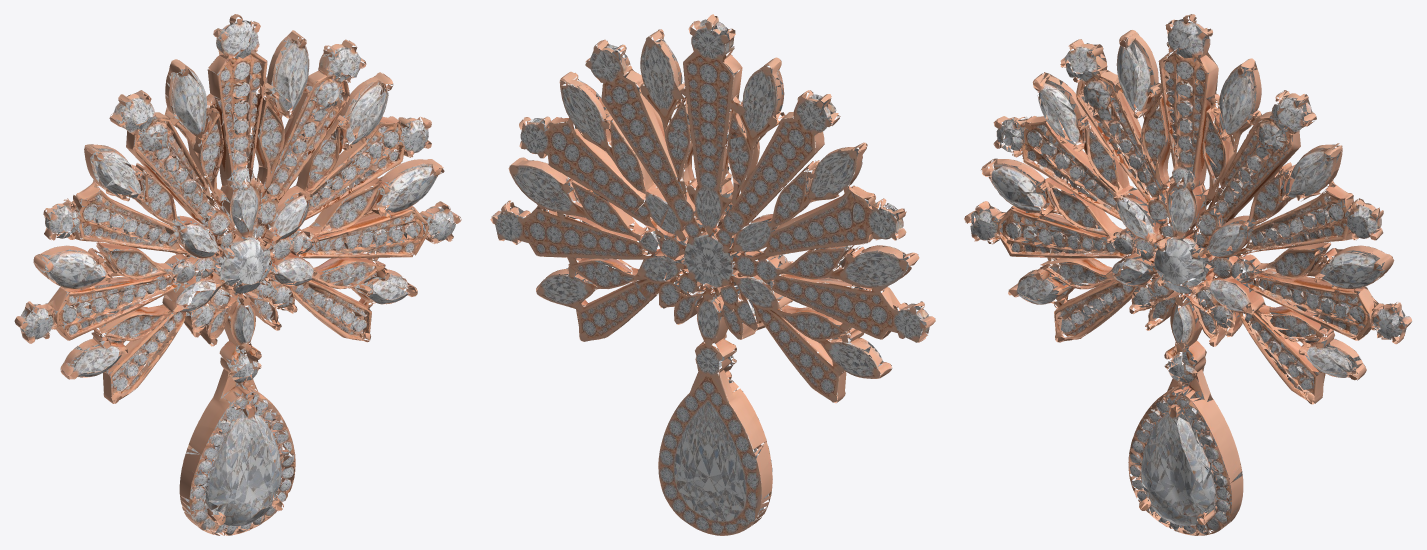
Rendered from brooch.glb.
3 views of the same model, side by side, from view 1: azimuth 30°, elevation 25°; view 2: azimuth 150°, elevation 25°; view 3: azimuth 330°, elevation 25° (orthographic).
Visible parts, largest first — view 1: brooch; view 2: brooch; view 3: brooch.
Boxes of the visible parts, <box> form: brooch: <box>14,14,461,535</box>; brooch: <box>490,14,935,535</box>; brooch: <box>964,14,1411,535</box>.
Bounding box in the file's own units: 0.893 × 1 × 0.0754.
1 material, 1 textured.
